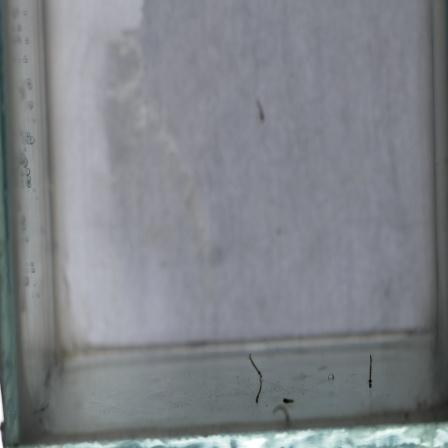Jentik-Nyamuk: (246, 350, 266, 407), (363, 350, 378, 391), (277, 393, 299, 408)
